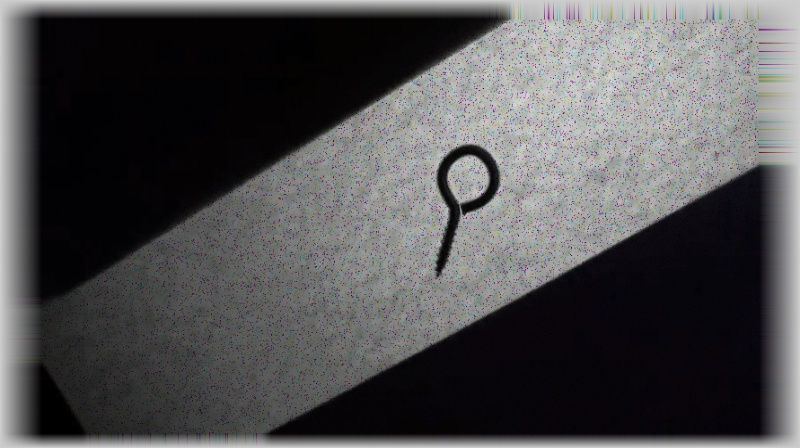O001: (428, 143, 502, 280)
